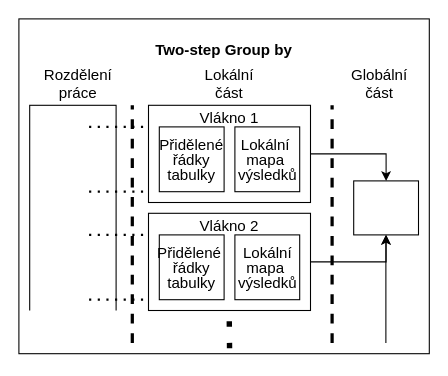
This 448x376 diagram has some shape labels left out. The box of each missing label's shape, as (x1, y1, x2, y2) in pixels:
Globální mapa výsledků: (353, 180, 418, 235)
Tabulka výsledků: (29, 104, 116, 321)
